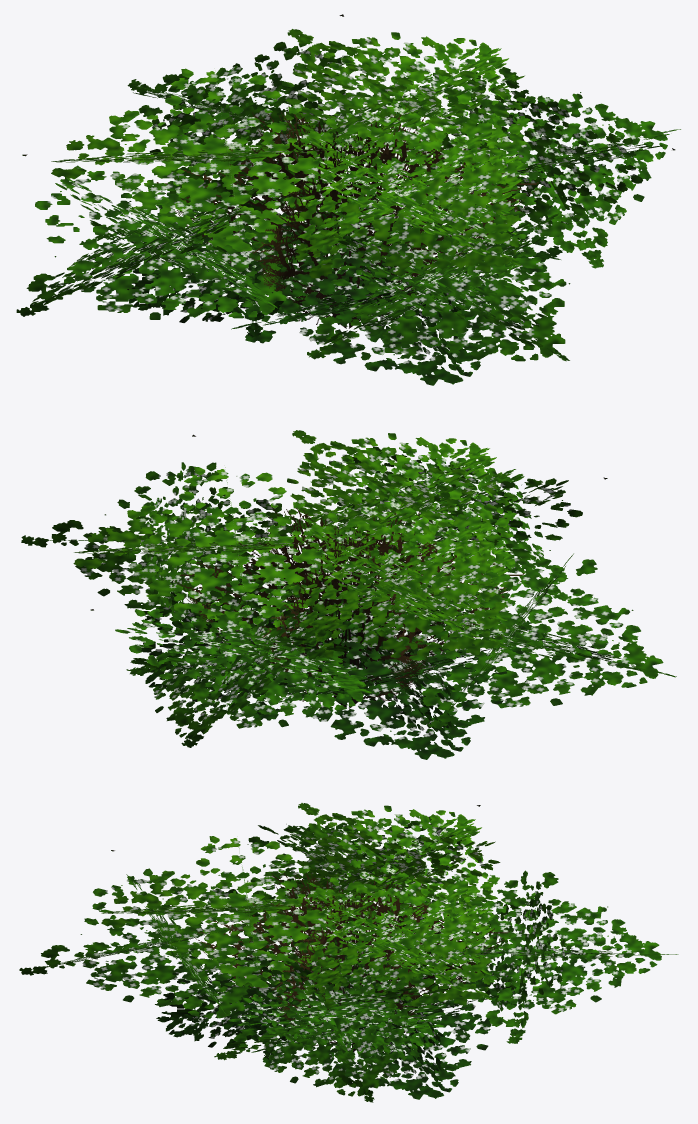
The model's file is braam_2.fbx.
3 views of the same model, one above another, from view 1: azimuth 30°, elevation 25°; view 2: azimuth 150°, elevation 25°; view 3: azimuth 270°, elevation 25° (orthographic). The views are drawn at different scales.
Parts seen in each view (by area): view 1: braam_2; view 2: braam_2; view 3: braam_2.
Part boxes in pixels (box(x1,y1,x2,y2)): braam_2: box(16, 14, 680, 385); braam_2: box(21, 430, 676, 759); braam_2: box(19, 803, 678, 1102).
Bounding box in the file's own units: 1221 × 384 × 1221.
